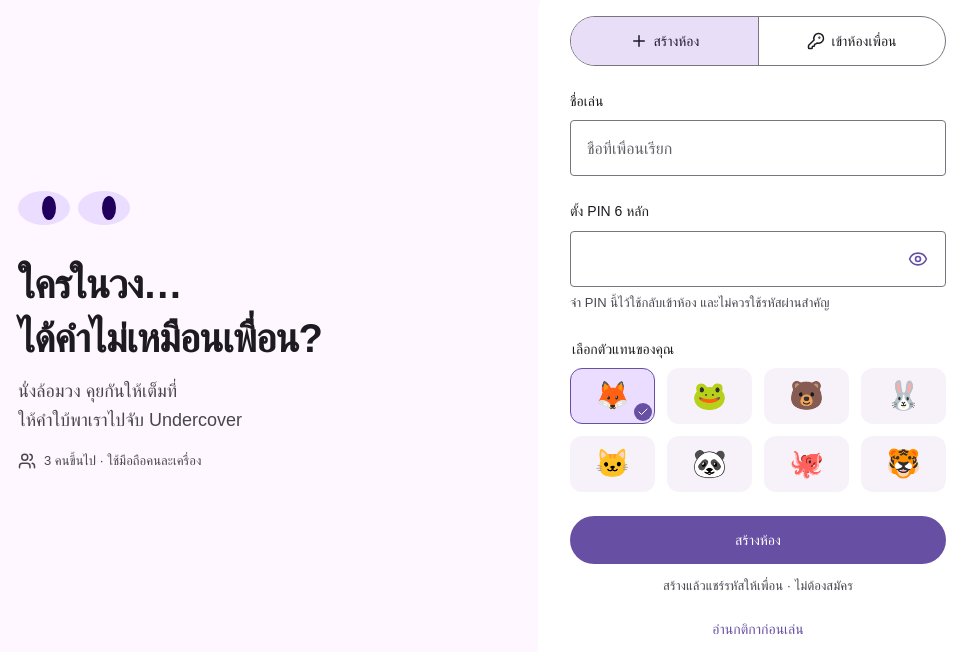
Test: PIN visibility control has an accessible changing label
The width and height of the screenshot is (963, 652).
Expected: the text "จำ PIN นี้ไว้ใช้กลับเข้าห้อง และไม่ควรใช้รหัสผ่านสำคัญ" is shown, left=570, top=295, right=830, bottom=310
Click the button named "แสดง PIN". click: (918, 259)
box: left=894, top=235, right=942, bottom=283
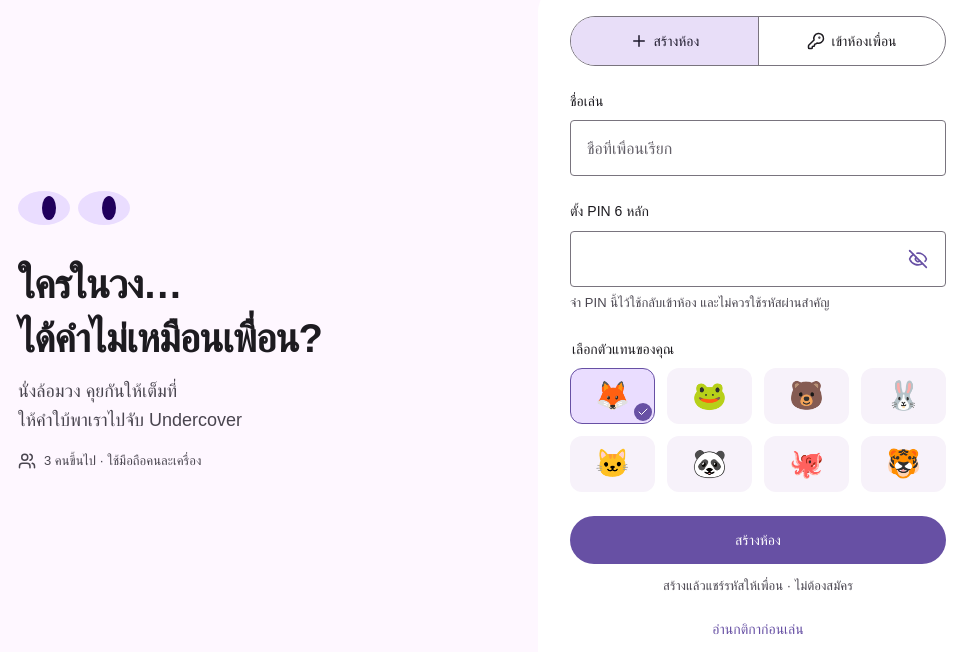
Expected: the button named "ซ่อน PIN" is shown, left=894, top=235, right=942, bottom=283
